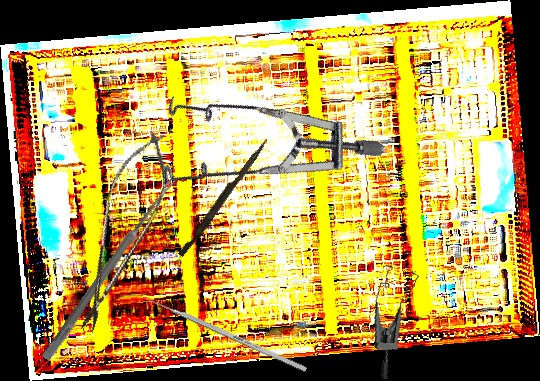Micro Scissor: (64, 124, 182, 340)
Pusher: (135, 291, 308, 373), (177, 134, 270, 260)
Speculum: (129, 30, 387, 276), (360, 259, 436, 381)
Surgical Spoon: (41, 174, 178, 363)
